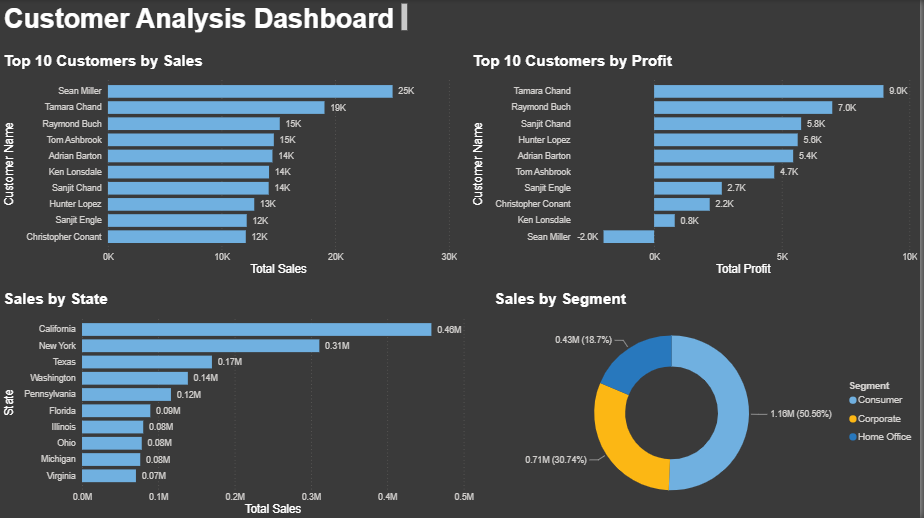

The dashboard page shown, as its layout file describes it:
{"tool":"powerbi","page":{"name":"Customer Analysis","canvas":[1280,720],"ordinal":2},"visuals":[{"type":"clusteredBarChart","title":"Top 10 Customers by Sales","fields":{"Category":["Sales Data.Customer Name"],"Y":["Sales Data.Total Sales"]},"box":[0,72.2,640,315.8],"z":0},{"type":"donutChart","title":"Sales by Segment","fields":{"Category":["Sales Data.Segment"],"Y":["Sales Data.Total Sales"]},"box":[682,403.1,598,317.5],"z":1000},{"type":"clusteredBarChart","title":"Top 10 Customers by Profit","fields":{"Category":["Sales Data.Customer Name"],"Y":["Sales Data.Total Profit"]},"box":[651.8,72.2,628.2,315.8],"z":2000},{"type":"clusteredBarChart","title":"Sales by State","fields":{"Category":["Sales Data.State"],"Y":["Sales Data.Total Sales"]},"box":[0,403.1,663.5,317.5],"z":3000},{"type":"textbox","box":[0,0,571.1,50.4],"z":5000}]}

Visuals, with their boxes in screenshot pixels (x1, y1, x2, y2), scaled from the page's 1280x720 canvas onto the 924x518 screenshot:
"Top 10 Customers by Sales" clusteredBarChart: [0,52,462,279]
"Sales by Segment" donutChart: [492,290,923,517]
"Top 10 Customers by Profit" clusteredBarChart: [471,52,923,279]
"Sales by State" clusteredBarChart: [0,290,479,517]
textbox: [0,0,412,36]
